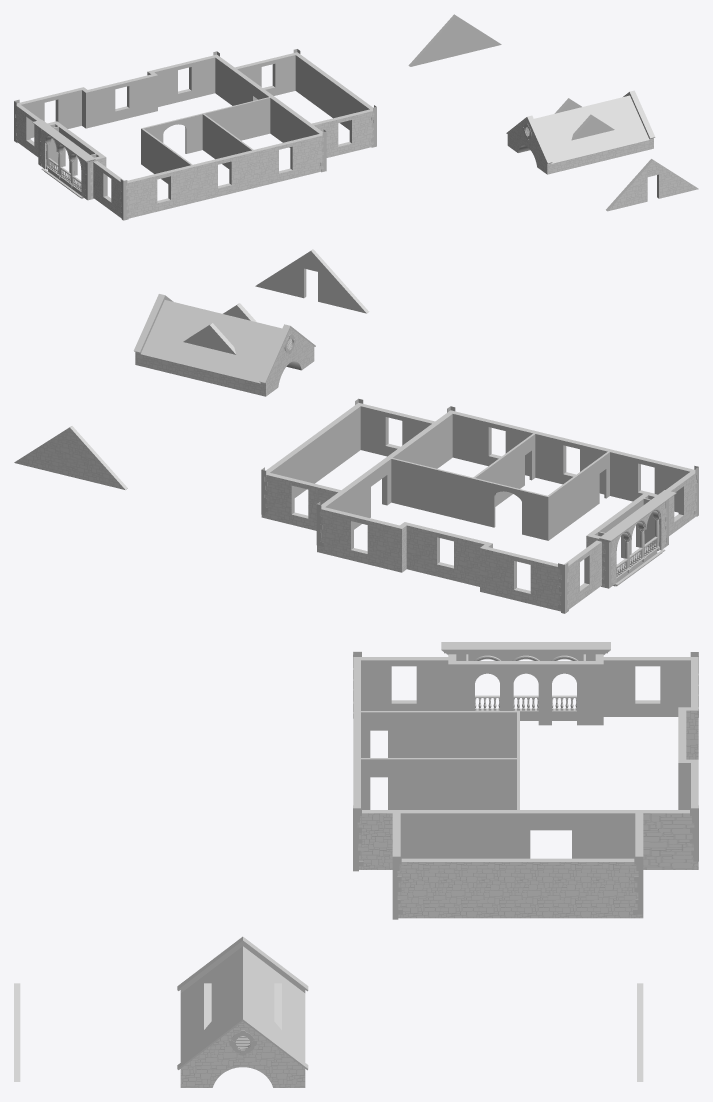
Rendered from RB05__Storey__FirstFloor__ProposedWalls__MeshModel__.glb.
3 views of the same model, one above another, from view 1: azimuth 30°, elevation 25°; view 2: azimuth 150°, elevation 25°; view 3: azimuth 270°, elevation 25° (orthographic). The views are drawn at different scales.
Visible parts, largest first — view 1: 21__ProposedBuilding__Walls::Default, 21__ProposedBuilding__Walls::MAT000E__Masonry__StoneworkPatt; view 2: 21__ProposedBuilding__Walls::Default, 21__ProposedBuilding__Walls::MAT000E__Masonry__StoneworkPatt; view 3: 21__ProposedBuilding__Walls::Default, 21__ProposedBuilding__Walls::MAT000E__Masonry__StoneworkPatt.
Boxes of the visible parts, left/top/right/bottom form: 21__ProposedBuilding__Walls::Default: left=14, top=14, right=696, bottom=220; 21__ProposedBuilding__Walls::MAT000E__Masonry__StoneworkPatt: left=15, top=72, right=698, bottom=218; 21__ProposedBuilding__Walls::Default: left=15, top=249, right=698, bottom=613; 21__ProposedBuilding__Walls::MAT000E__Masonry__StoneworkPatt: left=14, top=328, right=696, bottom=611; 21__ProposedBuilding__Walls::Default: left=14, top=642, right=698, bottom=1081; 21__ProposedBuilding__Walls::MAT000E__Masonry__StoneworkPatt: left=180, top=710, right=698, bottom=1087.
Bounding box in the file's own units: 42.59 × 3.84 × 32.91.
2 materials, 1 textured.
